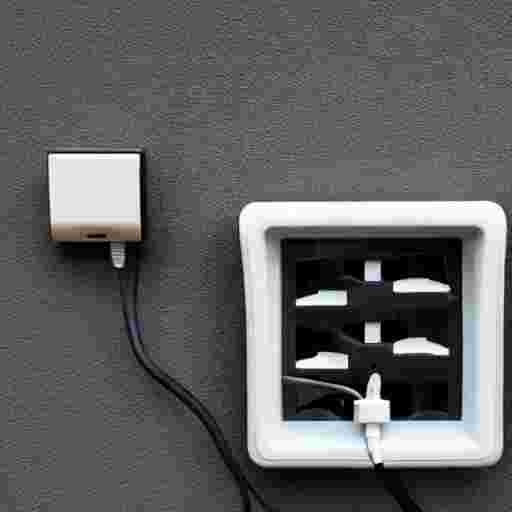power outlet: (239, 201, 505, 467), (48, 151, 143, 268)
